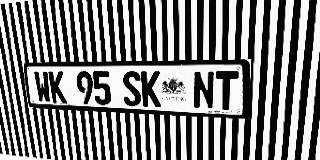5: (92, 71, 112, 105)
9: (76, 71, 95, 105)
K: (141, 71, 161, 107), (48, 71, 67, 103)
N: (193, 71, 215, 110)
S: (122, 71, 142, 107)
T: (215, 71, 238, 110)
W: (33, 71, 52, 103)
